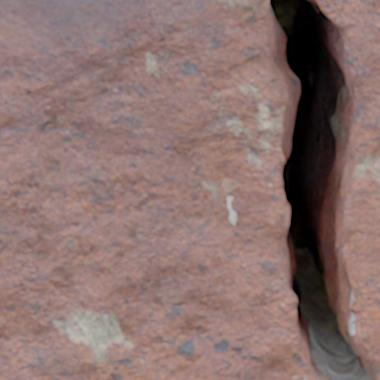broken_brick: (0, 0, 320, 379), (314, 0, 379, 379)
crack: (267, 0, 378, 379)
